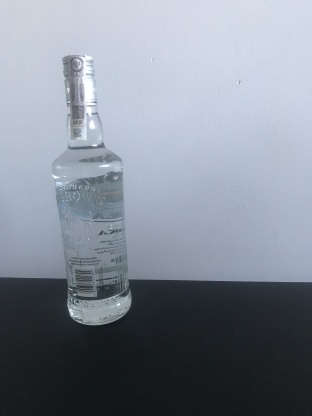nakretka: (60, 50, 99, 108), (60, 52, 110, 90)
